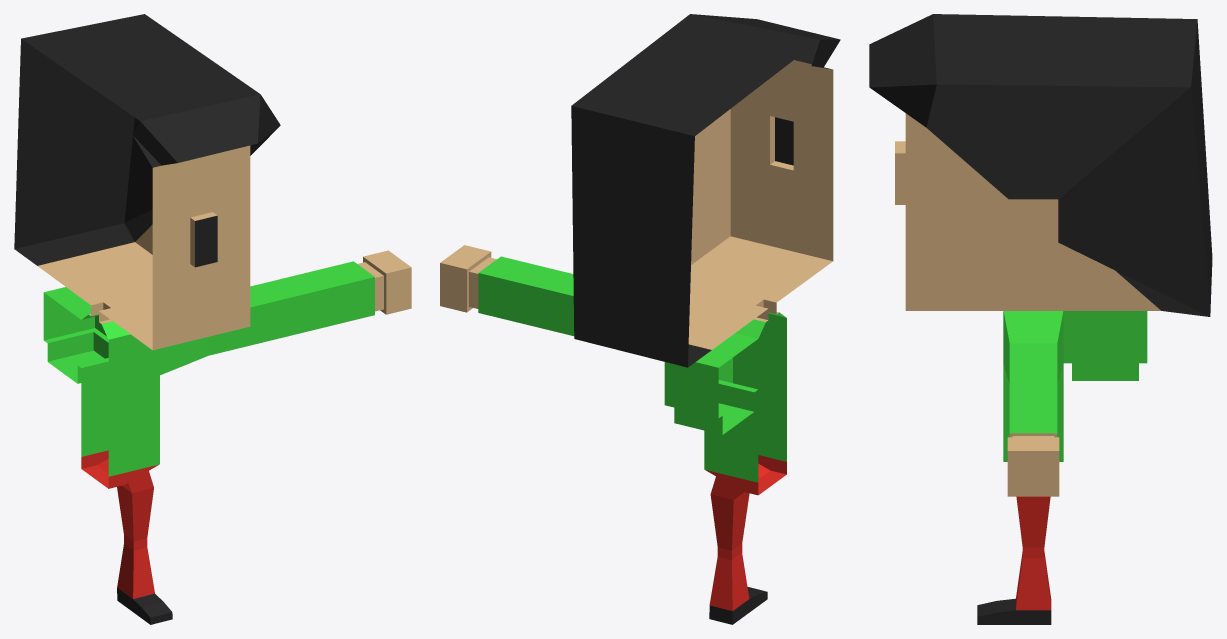
File: oldmc.glb
3 views of the same model, side by side, from view 1: azimuth 30°, elevation 25°; view 2: azimuth 150°, elevation 25°; view 3: azimuth 270°, elevation 25° (orthographic). The views are drawn at different scales.
Visible parts, largest first — view 1: Cube; view 2: Cube; view 3: Cube.
Part boxes in pixels (x1,y1,x2,y2): Cube: [14, 14, 411, 624]; Cube: [440, 14, 840, 624]; Cube: [869, 14, 1212, 624].
Bounding box in the file's own units: 5.93 × 9.77 × 5.21.
